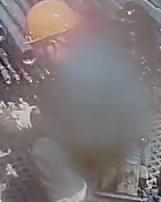gloves: (0, 103, 42, 135)
helmet: (24, 0, 80, 44)
